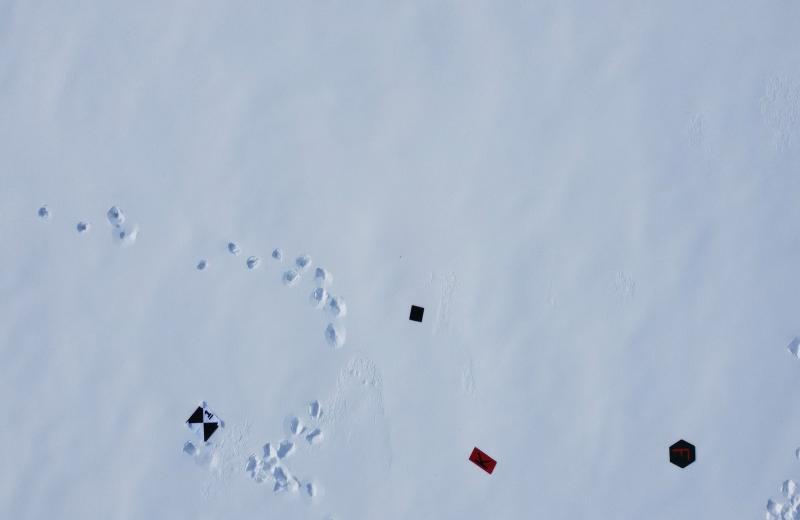Hexagon: (666, 437, 700, 471)
Rectangle: (466, 444, 500, 476)
Square: (407, 302, 428, 325)
